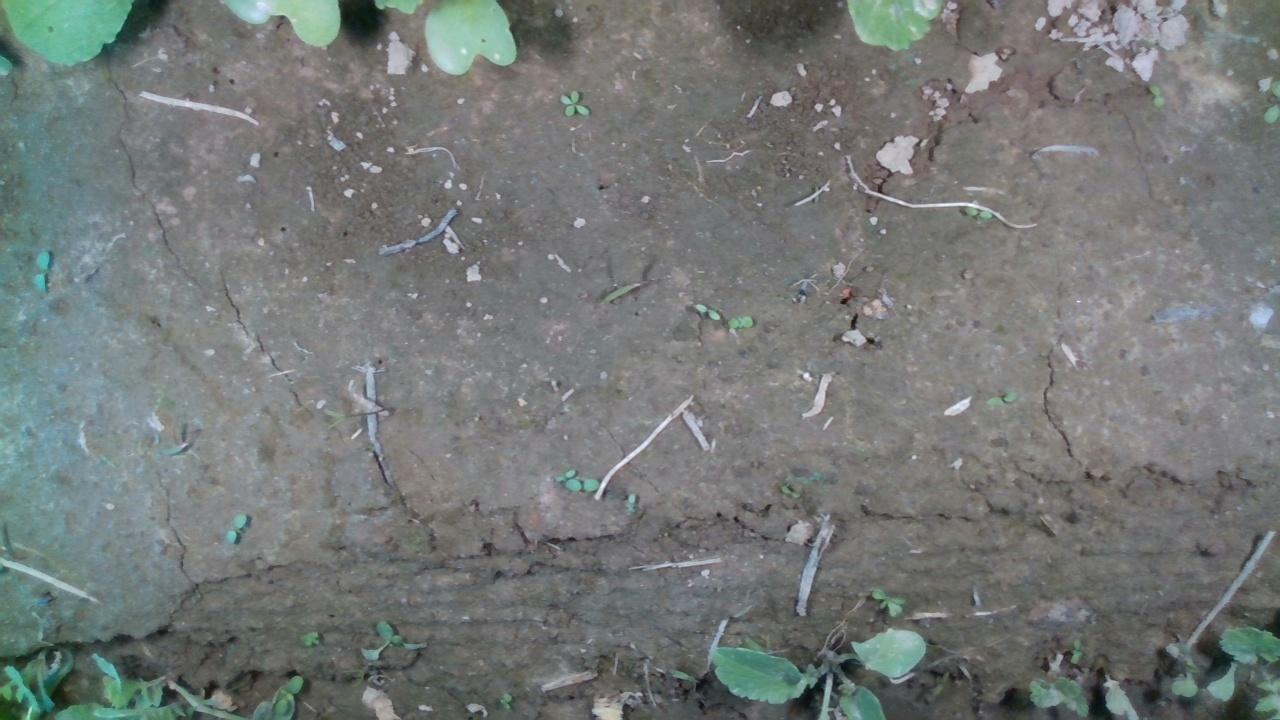weed: (869, 587, 904, 618), (555, 88, 590, 117), (28, 248, 48, 294), (223, 512, 247, 545), (984, 388, 1018, 409), (1146, 81, 1168, 109), (691, 301, 721, 320), (724, 313, 754, 329), (960, 205, 991, 220), (1068, 636, 1082, 665)
